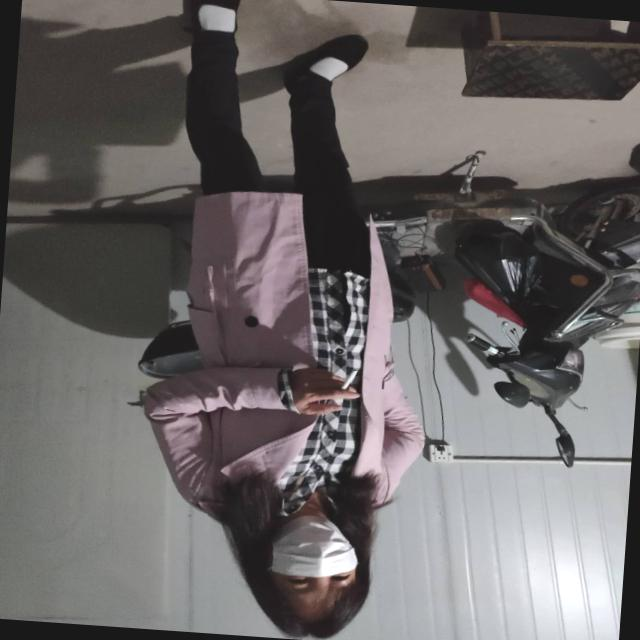smoke: (333, 364, 362, 398)
